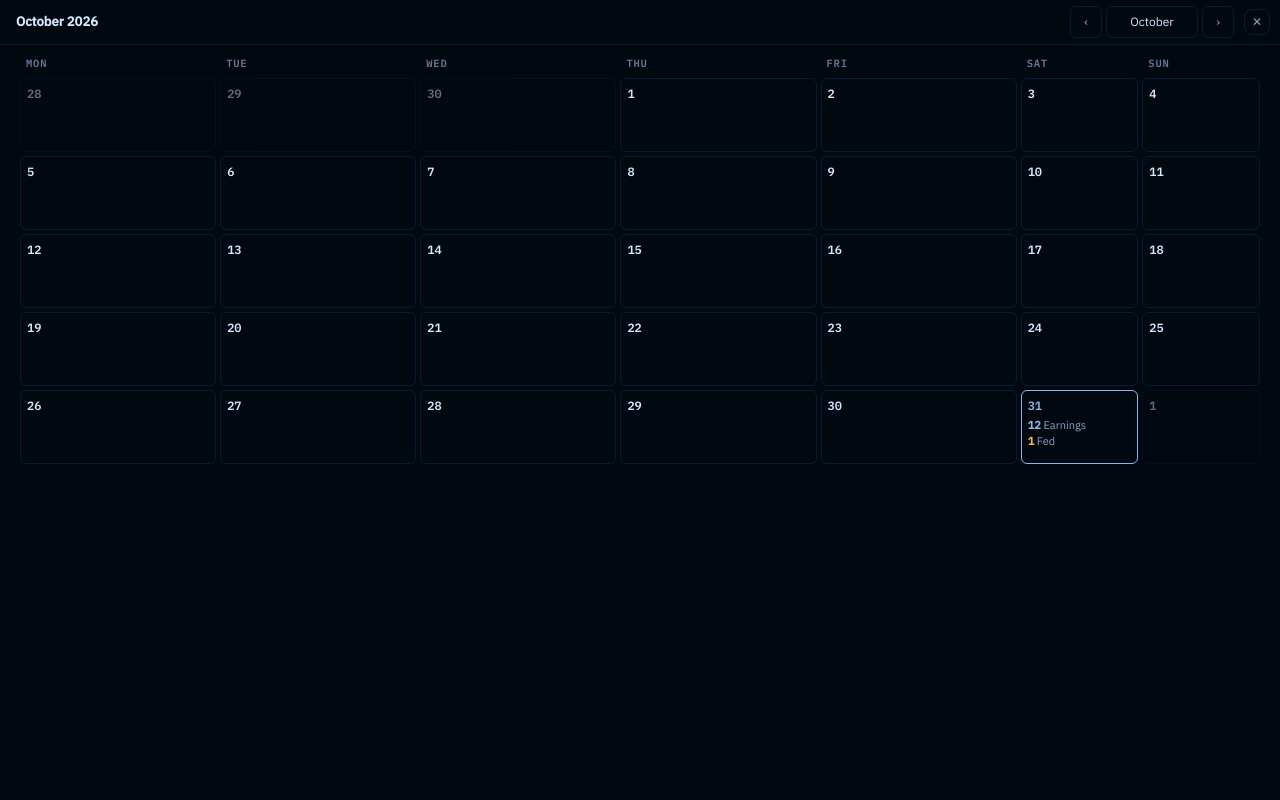
it: CalendarPanel › names the month between the arrows, and the name returns to this month
expect the button "October" is shown: met, box [1106,6,1198,38]
Click the button named "Next month" at (1218, 22), box [1202,6,1234,38]
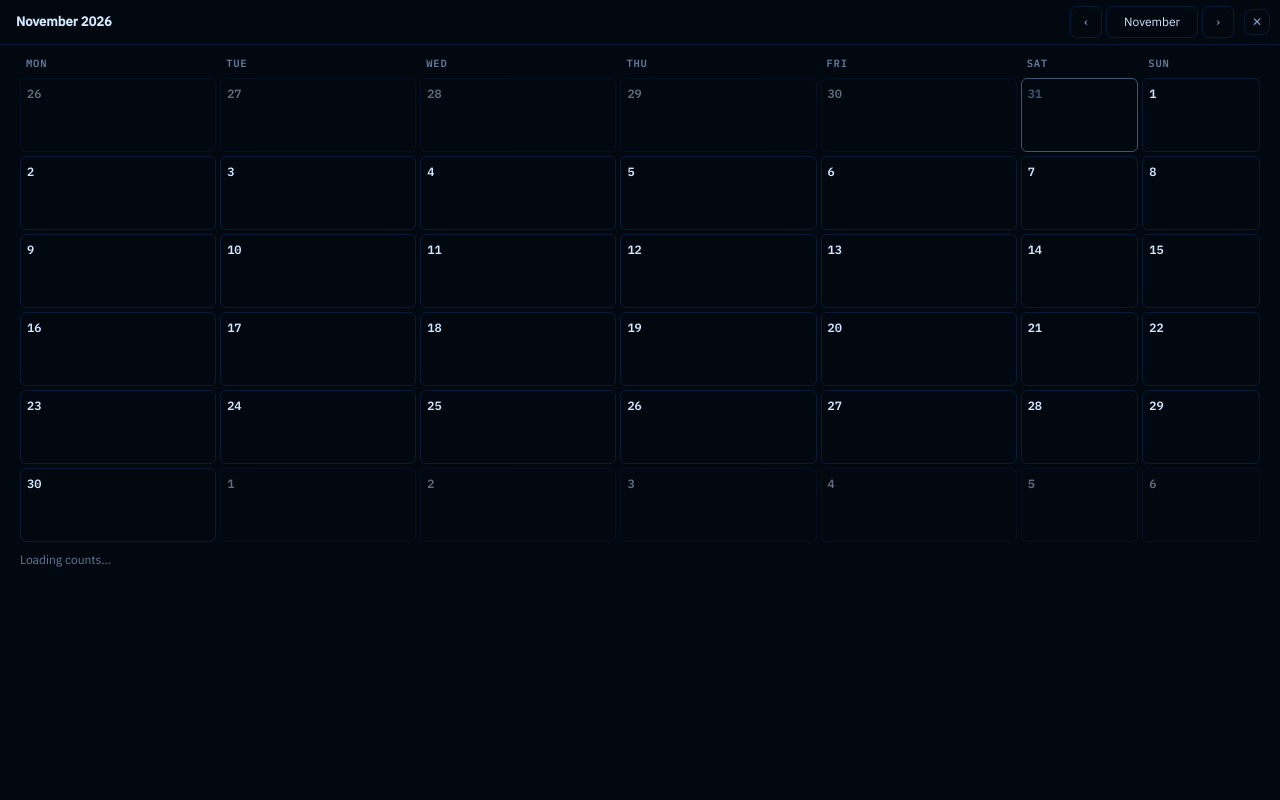
Click the button named "Next month" at (1218, 22), box [1202,6,1234,38]
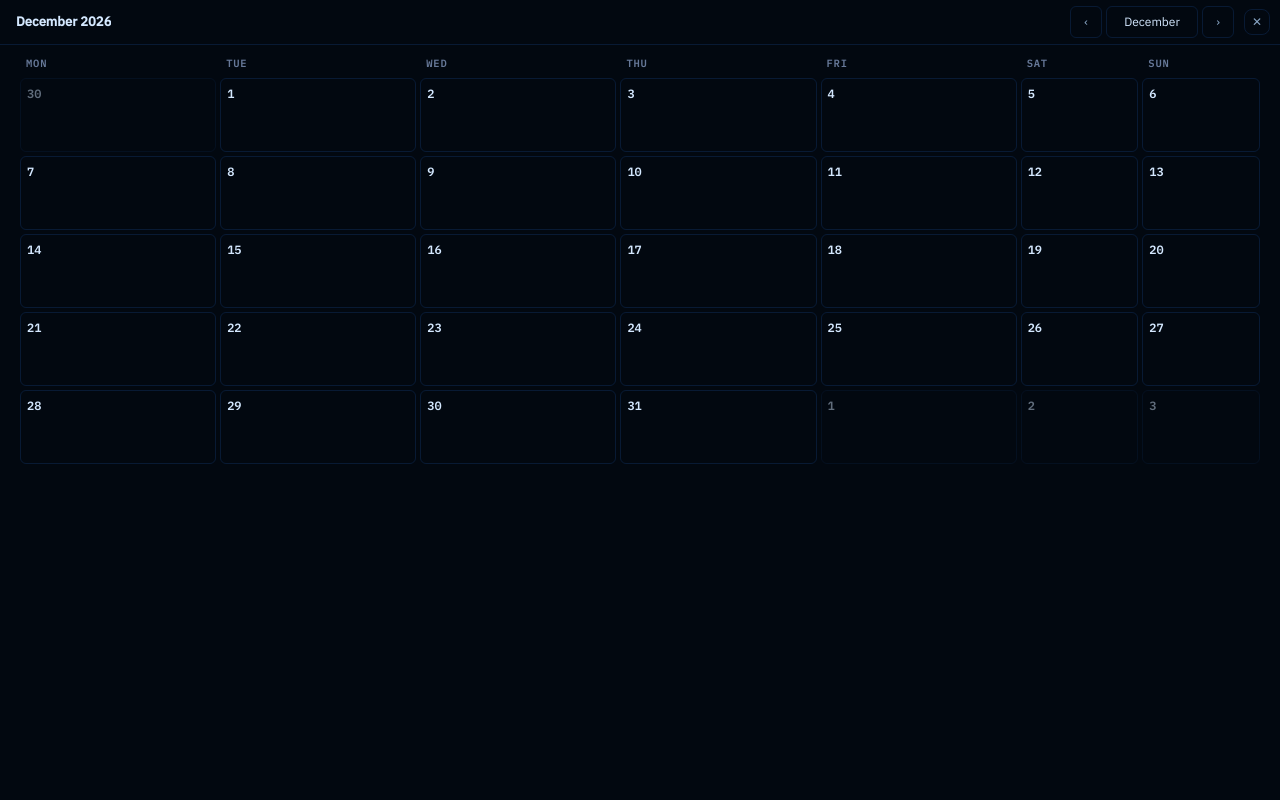
expect the text "October" is not shown: met
Click the button titled "Back to this month" at (1152, 22), box [1106,6,1198,38]
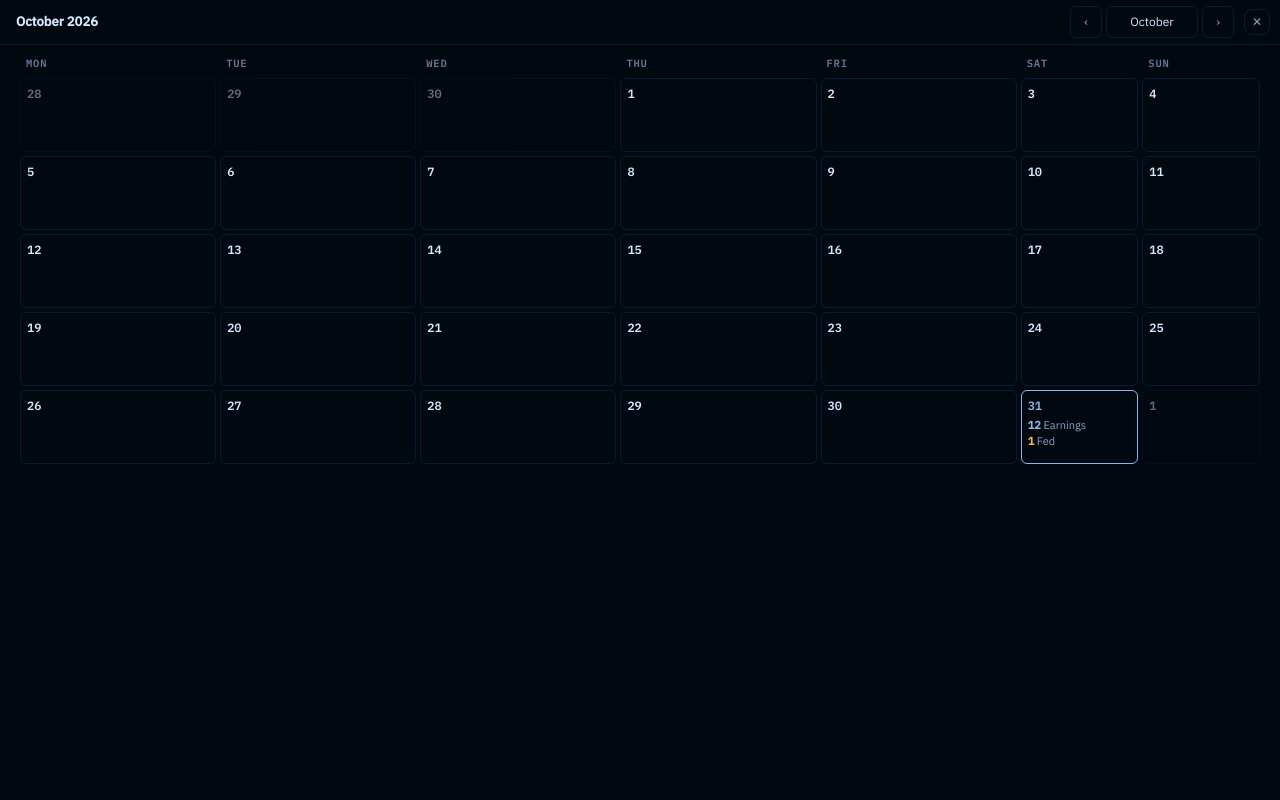
expect the button "October" is shown: met, box [1106,6,1198,38]
